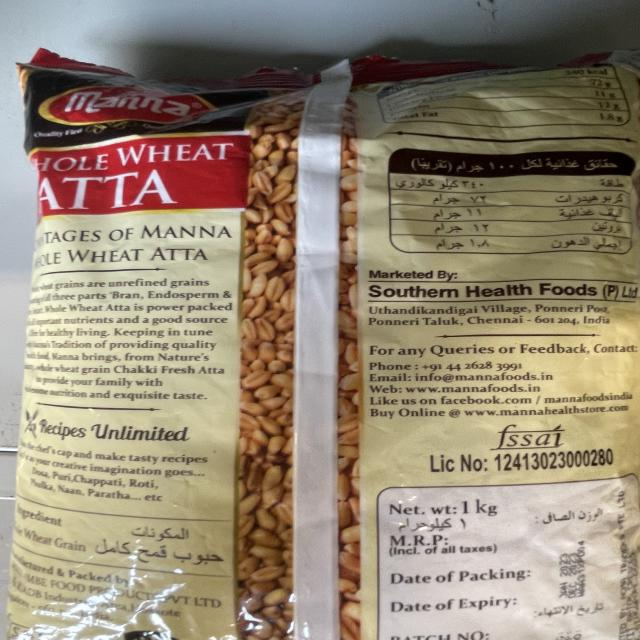object_name: (32, 62, 638, 640)
